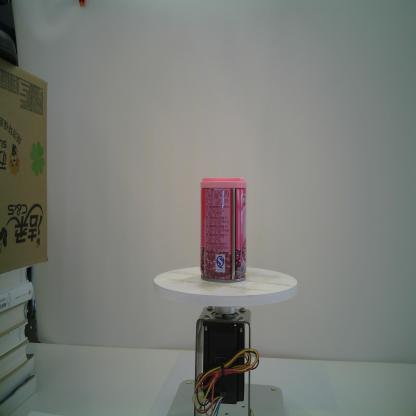Canned Food: (200, 176, 248, 286)
